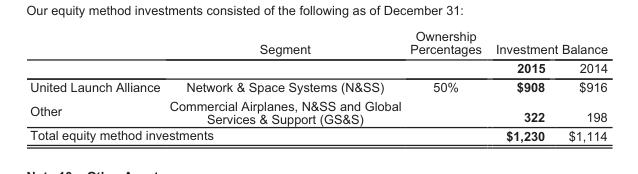table: (29, 28, 607, 142)
table column: (164, 28, 404, 142), (29, 28, 164, 142), (404, 28, 487, 142), (487, 28, 556, 142), (556, 28, 607, 142)
table column header: (29, 28, 607, 77)
table row: (29, 28, 607, 58), (29, 96, 607, 126), (29, 58, 607, 77), (29, 77, 607, 96), (29, 126, 607, 142)
table spanning cell: (164, 28, 404, 77), (29, 126, 404, 142), (404, 28, 487, 77), (487, 28, 607, 58)
